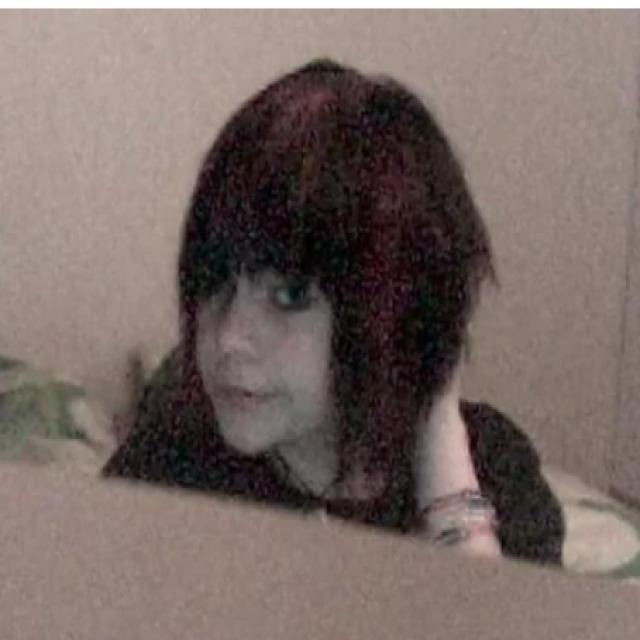face_no_mask: (192, 217, 354, 464)
